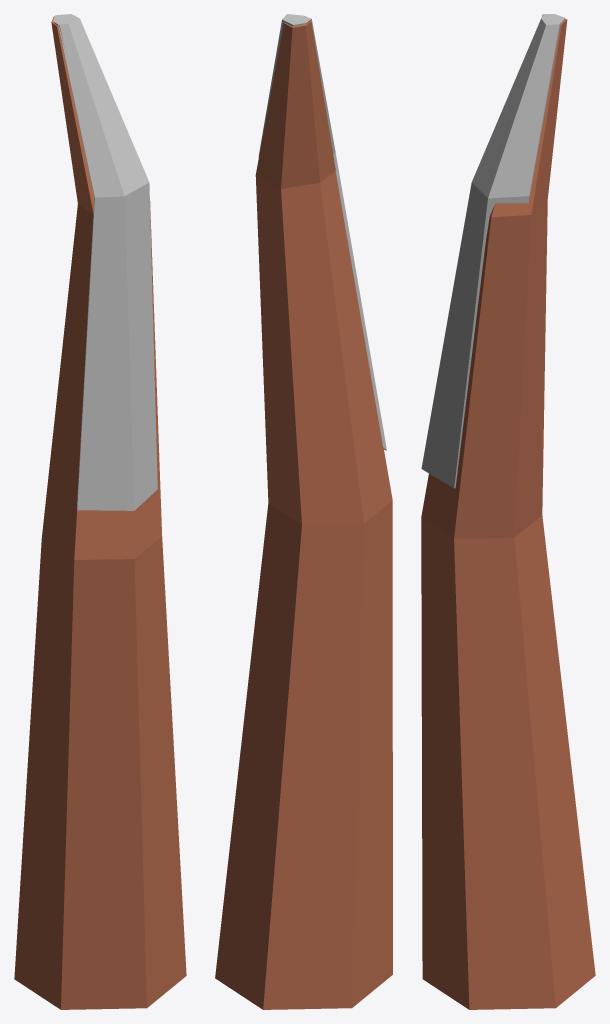
The model's file is Tree_08_winter_vc.fbx.
The picture shows the model from 3 angles, left to right: view 1: azimuth 30°, elevation 25°; view 2: azimuth 150°, elevation 25°; view 3: azimuth 270°, elevation 25°; orthographic projection. The views are drawn at different scales.
Visible parts, largest first — view 1: Tree_08_winter_vc; view 2: Tree_08_winter_vc; view 3: Tree_08_winter_vc.
Part boxes in pixels (x1,y1,x2,y2): Tree_08_winter_vc: (14, 14, 186, 1009); Tree_08_winter_vc: (215, 14, 392, 1009); Tree_08_winter_vc: (421, 14, 595, 1009).
Bounding box in the file's own units: 22.5 × 153 × 25.47.
